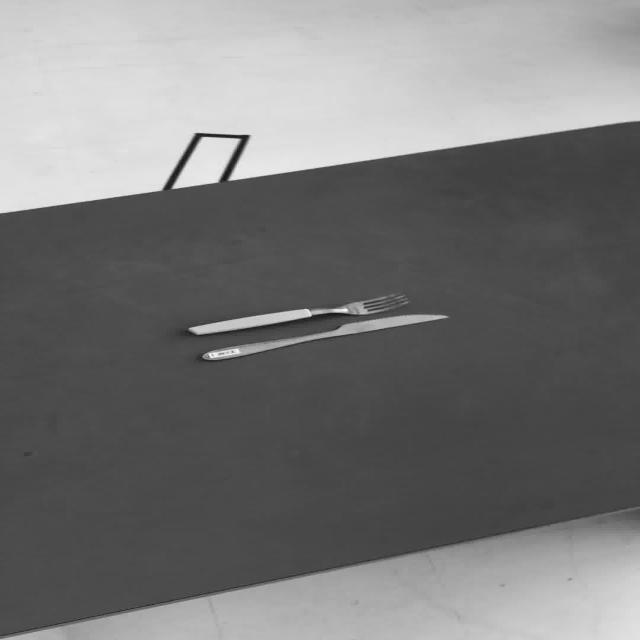fork: (185, 292, 409, 335)
knife fork: (198, 313, 448, 361), (186, 292, 410, 336)
